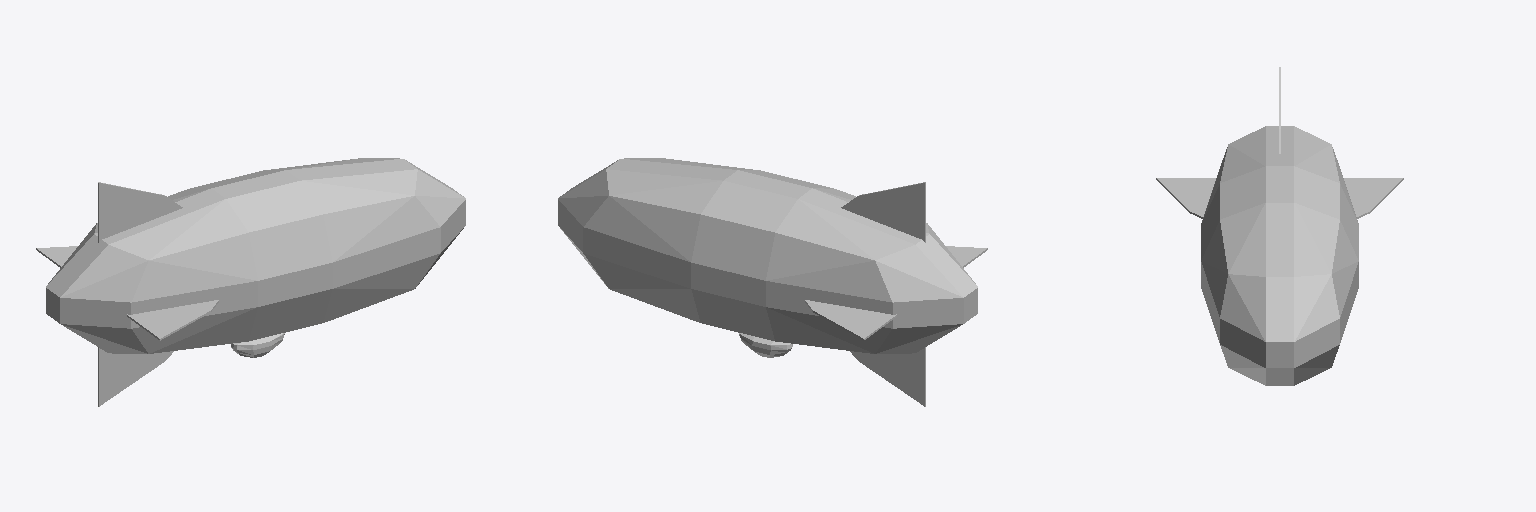
File: dirigible.obj
3 renders of one model, left to right at view 1: azimuth 30°, elevation 25°; view 2: azimuth 150°, elevation 25°; view 3: azimuth 270°, elevation 25°, orthographic.
Visible parts, largest first — view 1: Cube.001_Cube.002, Cube.002_Cube.003, Cube_Cube.005; view 2: Cube.001_Cube.002, Cube.002_Cube.003, Cube_Cube.005; view 3: Cube.001_Cube.002, Cube.002_Cube.003.
Boxes of the visible parts, x1=… form: Cube.001_Cube.002: x1=46, y1=158, x2=465, y2=353; Cube.002_Cube.003: x1=36, y1=182, x2=218, y2=406; Cube_Cube.005: x1=231, y1=333, x2=284, y2=357; Cube.001_Cube.002: x1=558, y1=158, x2=977, y2=353; Cube.002_Cube.003: x1=805, y1=182, x2=987, y2=406; Cube_Cube.005: x1=739, y1=333, x2=792, y2=357; Cube.001_Cube.002: x1=1201, y1=126, x2=1358, y2=385; Cube.002_Cube.003: x1=1156, y1=67, x2=1403, y2=218.
Size of the model in its own units: 31.49 by 16.62 by 16.62.